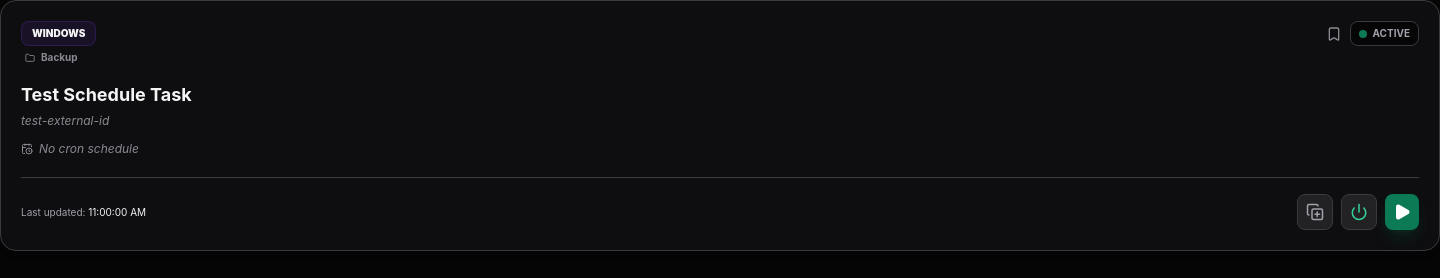
TaskCard Component › cancels category editing on Escape key
Click the button "Backup" at coordinates (61, 58), box [25,50,96,65]
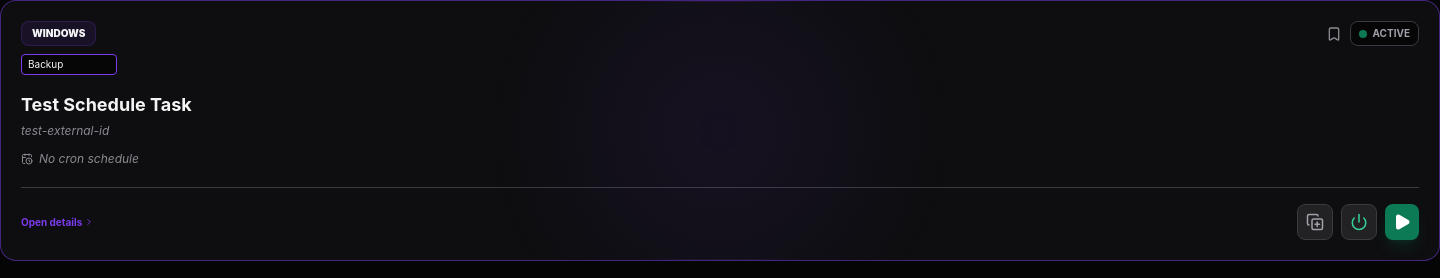
Replace the text in the field with "NewCategory" at coordinates (69, 64), box [21,54,117,75]
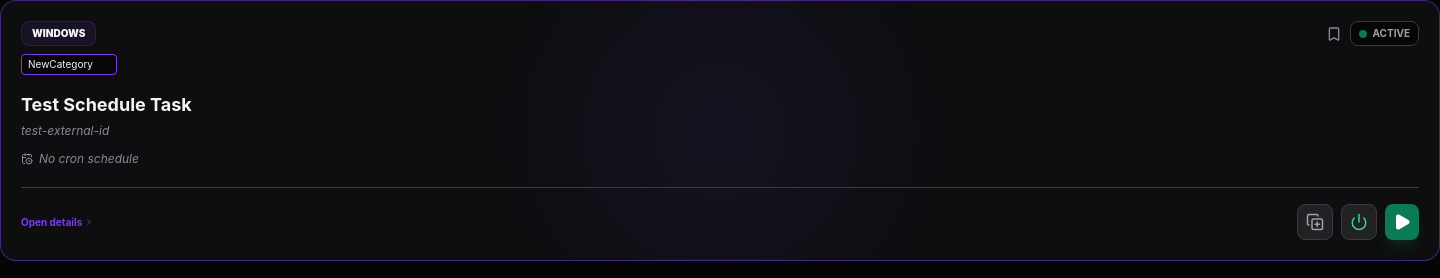
Press Escape in the field, box [21,54,117,75]
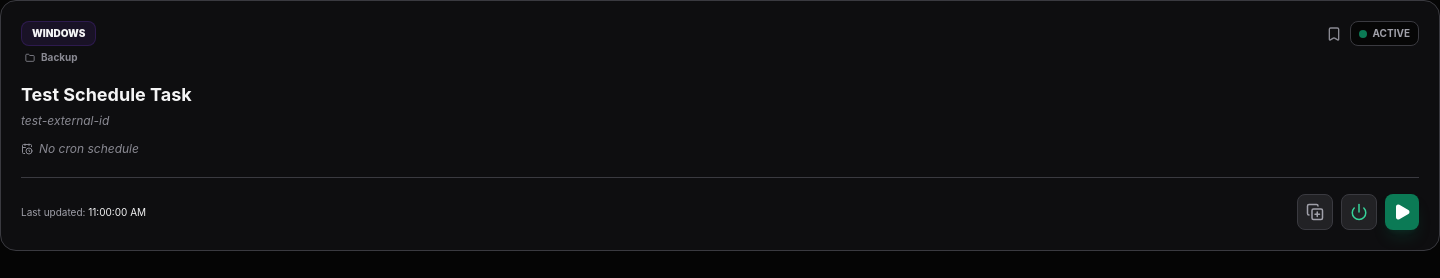
Expected: the button "Backup" is shown, [25,50,96,65]
